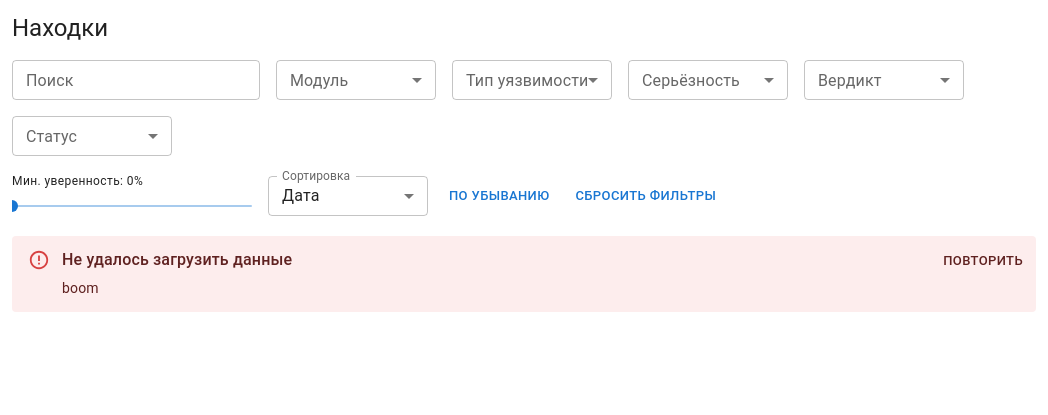
Scenario: FindingsPage › shows an error and retries
Expected: the message shows "boom", top-left (62, 280), bottom-right (99, 296)
Click the button "Повторить": (983, 261) top-left (938, 246), bottom-right (1028, 277)
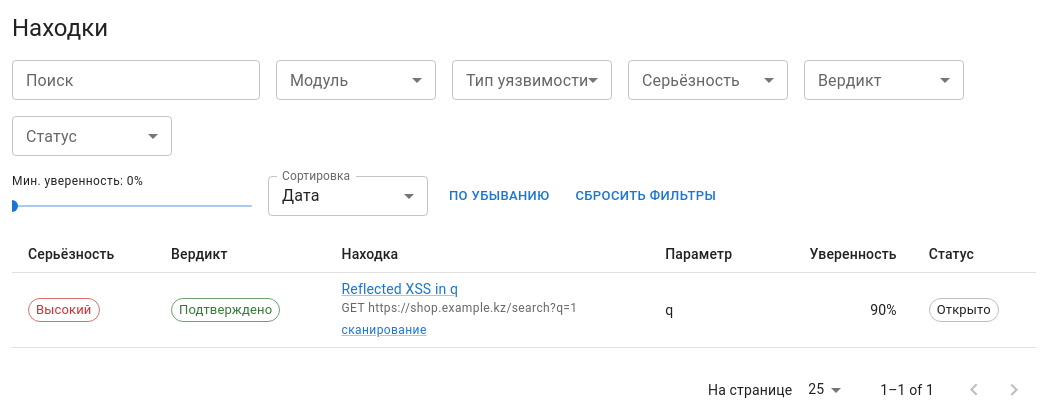
Expected: the link "Reflected XSS in q" is shown, top-left (342, 281), bottom-right (458, 297)
